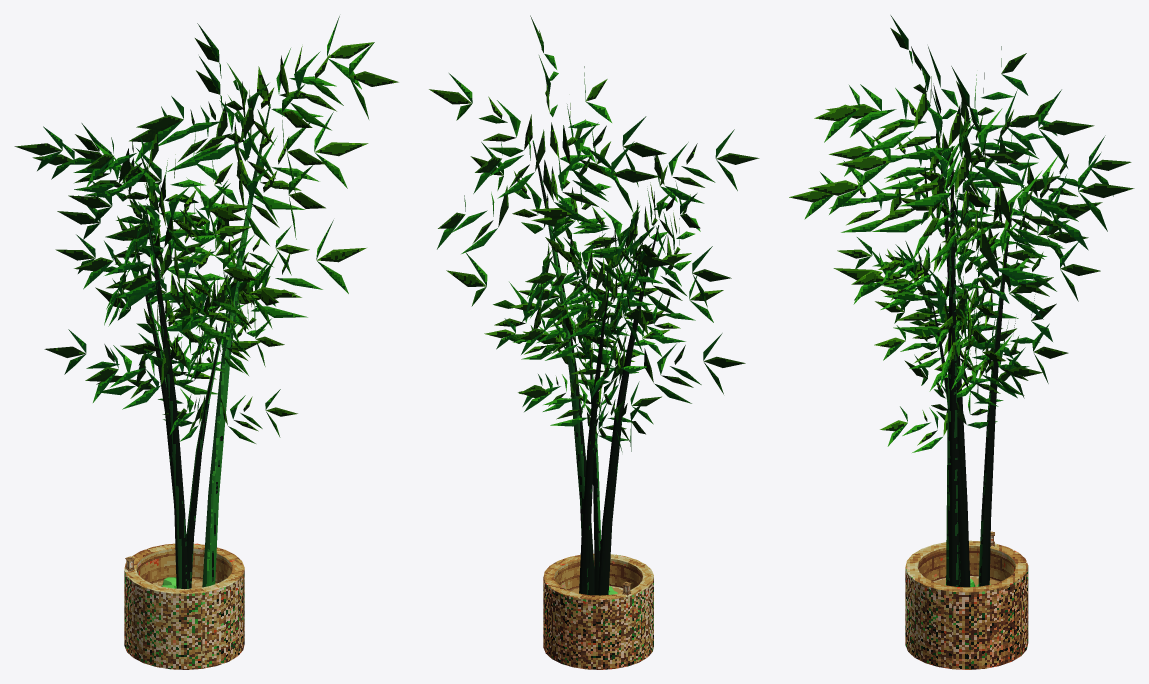
File: bamboo.glb
3 views of the same model, side by side, from view 1: azimuth 30°, elevation 25°; view 2: azimuth 150°, elevation 25°; view 3: azimuth 270°, elevation 25° (orthographic). The views are drawn at different scales.
Parts seen in each view (by area): view 1: mesh; view 2: mesh; view 3: mesh.
Boxes of the visible parts, box(x1,y1,x2,y2) form: mesh: box(14, 16, 398, 669); mesh: box(429, 15, 759, 669); mesh: box(789, 15, 1134, 669).
Size of the model in its own units: 1.47 by 2.62 by 1.32.
Materials: 1 (1 with a texture image).
